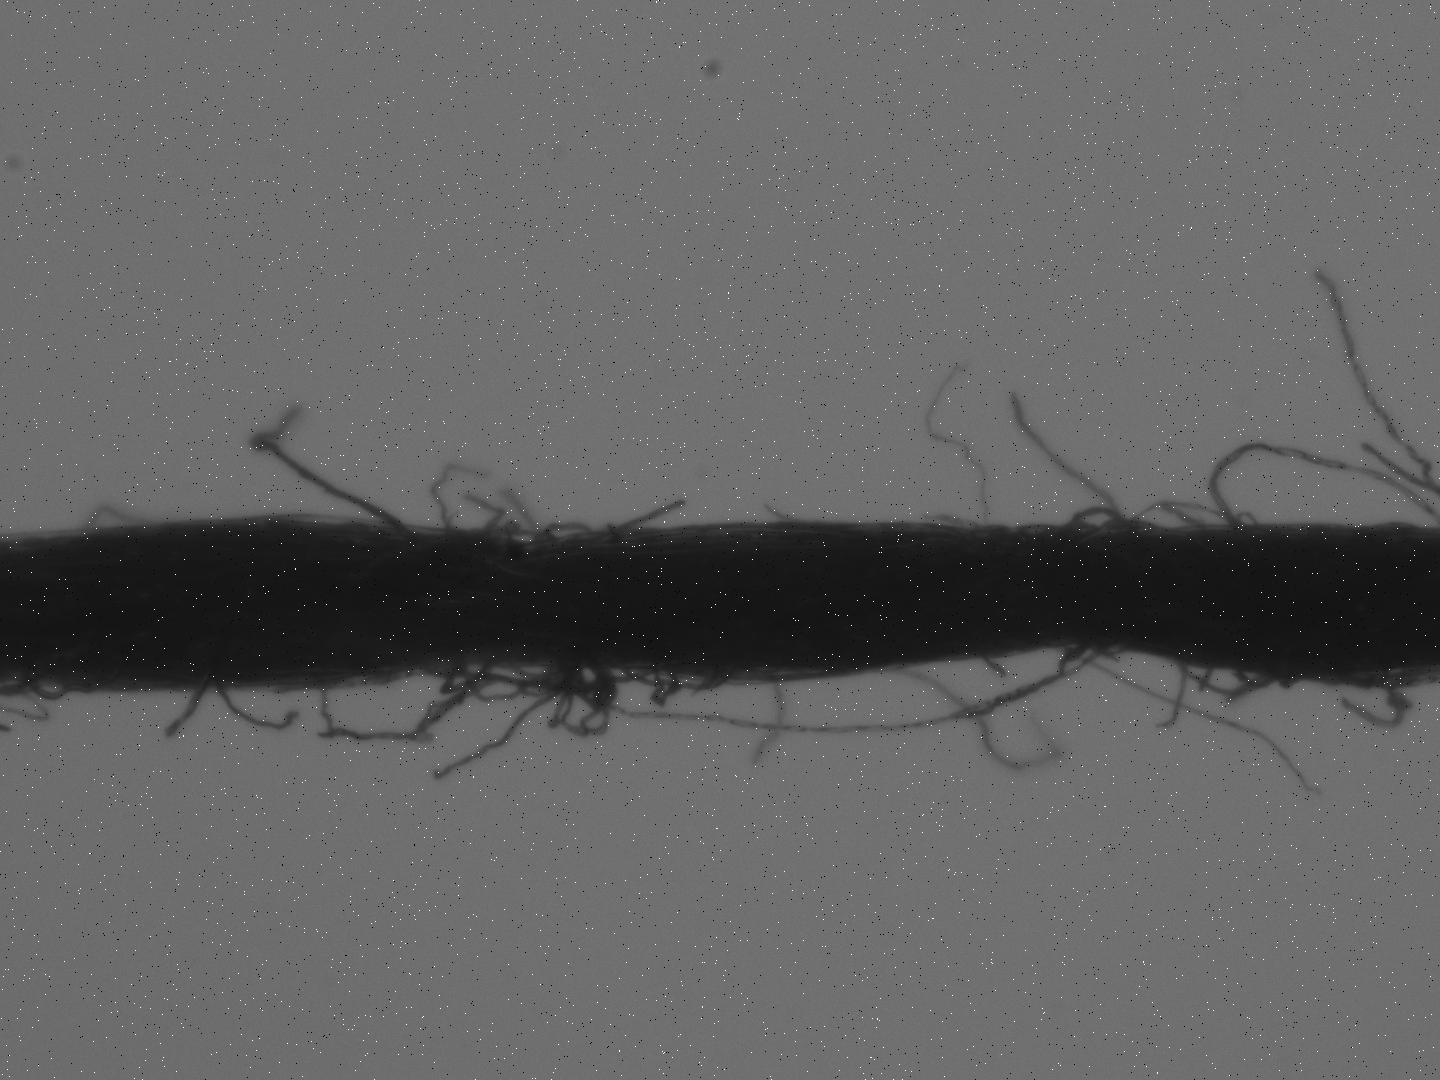loop_fiber: (1206, 440, 1438, 542), (448, 653, 666, 748), (317, 649, 505, 749), (67, 495, 179, 547), (621, 665, 736, 714), (1058, 504, 1179, 545), (1178, 661, 1279, 703), (1134, 500, 1246, 537), (534, 521, 594, 552)
protruding_fiber: (248, 406, 429, 542)
